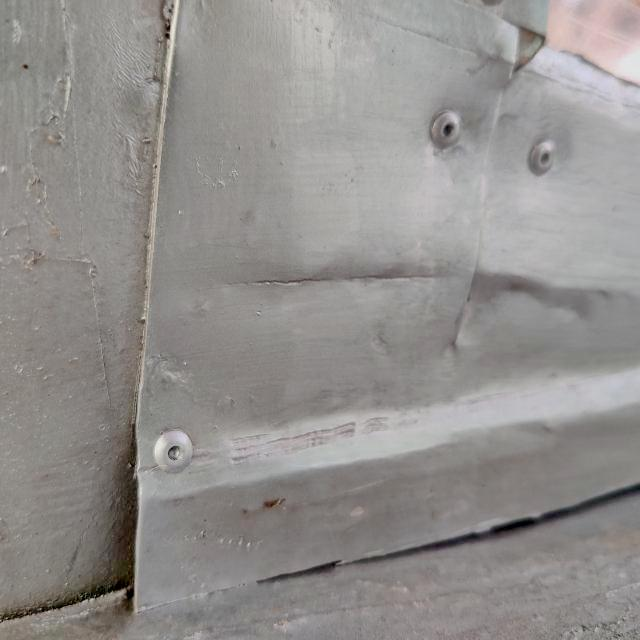scratch: (222, 202, 468, 332)
